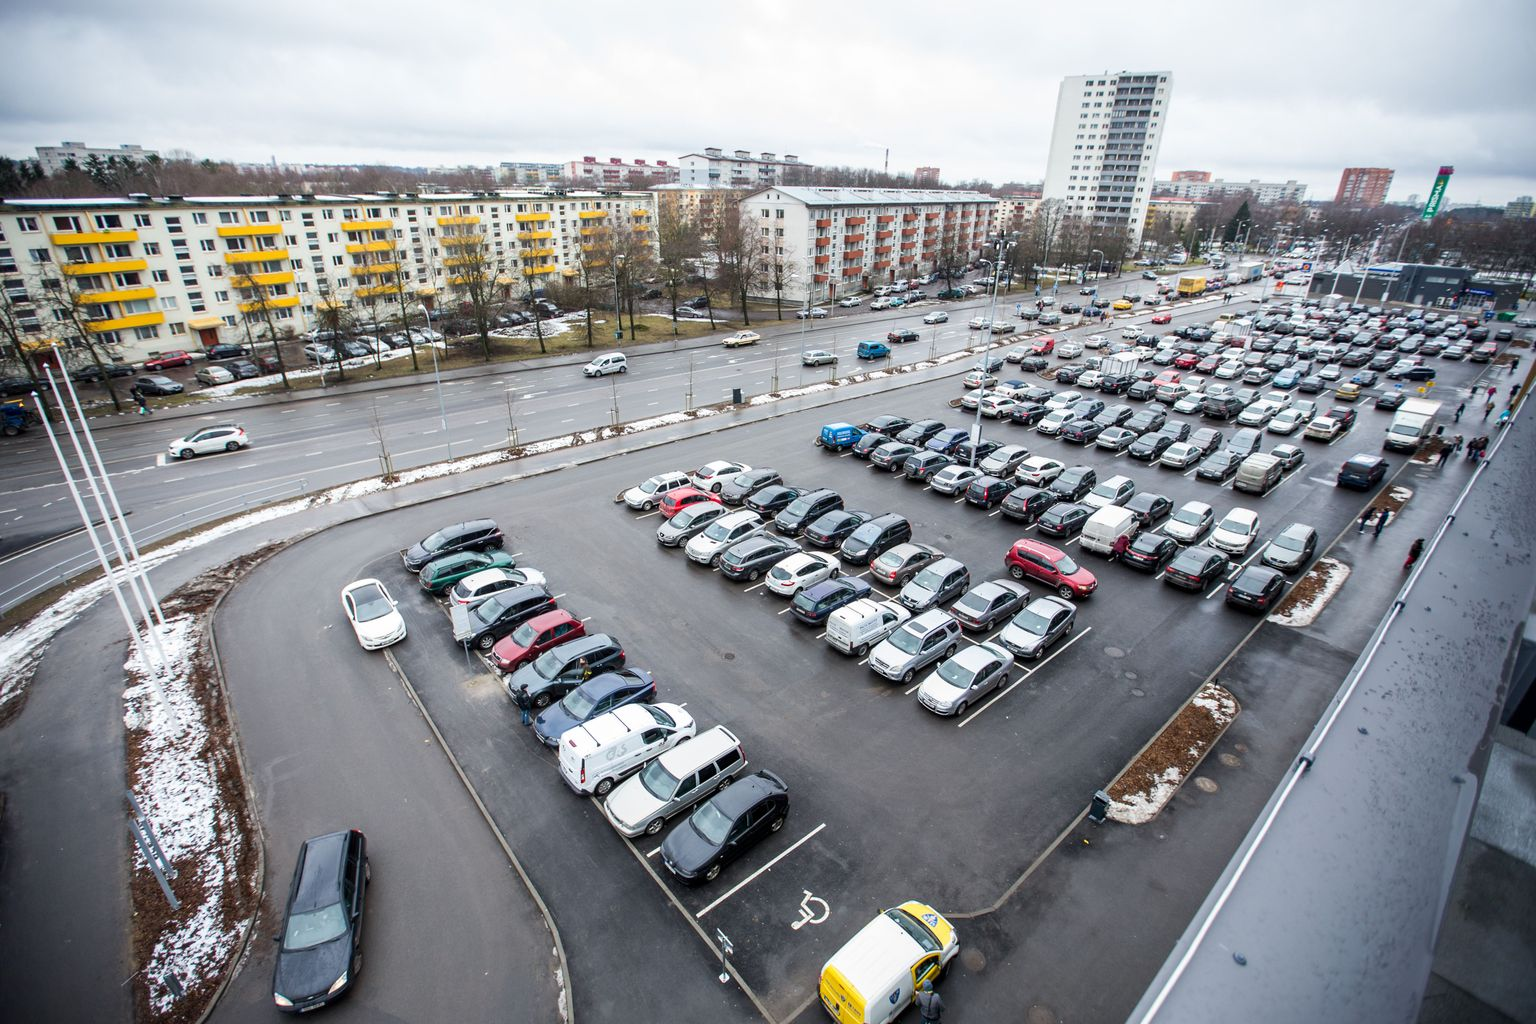Car: (269, 829, 373, 1015), (818, 901, 959, 1024), (602, 725, 751, 839), (659, 770, 790, 883), (557, 702, 696, 795), (533, 669, 656, 747), (505, 634, 625, 709), (917, 643, 1013, 717), (869, 610, 961, 683), (458, 586, 557, 650), (489, 609, 586, 672), (1005, 539, 1097, 600), (403, 519, 504, 573), (998, 594, 1078, 659), (824, 599, 911, 656), (341, 579, 408, 651), (685, 510, 767, 567), (949, 578, 1032, 632), (419, 551, 515, 594), (790, 576, 872, 626), (449, 567, 546, 609), (898, 558, 971, 613), (838, 512, 912, 566), (719, 536, 801, 581), (870, 542, 945, 589), (766, 551, 841, 598), (774, 489, 845, 537), (656, 503, 731, 547), (1385, 395, 1442, 453), (1079, 506, 1141, 559), (168, 423, 249, 461), (1163, 547, 1231, 592), (1225, 565, 1287, 613), (1261, 523, 1318, 574), (623, 471, 691, 511), (802, 510, 873, 547), (1207, 506, 1259, 557), (1161, 501, 1214, 545), (720, 469, 783, 505), (1232, 453, 1286, 495), (1000, 485, 1057, 523), (1037, 503, 1097, 539), (1123, 533, 1178, 573), (745, 486, 809, 517), (1081, 474, 1135, 511), (1337, 451, 1387, 490), (965, 474, 1018, 509), (659, 488, 721, 518), (1122, 493, 1175, 527), (693, 461, 751, 491), (929, 465, 985, 496), (870, 442, 926, 472), (1049, 465, 1096, 501), (978, 445, 1031, 475), (903, 451, 957, 481), (1123, 401, 1168, 437), (1015, 456, 1066, 486), (0, 402, 43, 437), (821, 422, 869, 453), (895, 419, 946, 447), (1195, 450, 1239, 481), (1225, 426, 1264, 461), (1129, 431, 1174, 461), (923, 427, 970, 455), (72, 363, 137, 383), (952, 439, 1005, 463), (1035, 408, 1078, 437), (582, 353, 629, 378), (864, 415, 914, 438), (1160, 440, 1201, 467), (853, 433, 897, 458), (0, 376, 50, 398), (1062, 419, 1106, 443), (1095, 426, 1138, 450), (136, 374, 184, 395), (144, 350, 192, 371), (1202, 394, 1245, 418), (1304, 415, 1341, 442), (1186, 426, 1223, 454), (1269, 408, 1304, 435), (1007, 401, 1049, 424), (1269, 443, 1304, 470), (1093, 405, 1135, 426), (1238, 401, 1273, 426), (993, 379, 1038, 399), (982, 395, 1019, 418), (1257, 391, 1293, 415), (303, 343, 342, 365), (1043, 391, 1083, 411), (1326, 405, 1357, 431), (1070, 398, 1105, 421), (195, 366, 234, 386), (1174, 392, 1210, 414), (1386, 366, 1435, 382), (960, 389, 1000, 408), (206, 343, 250, 360), (722, 329, 761, 349), (1154, 383, 1190, 403), (250, 352, 281, 374), (331, 339, 368, 358), (1101, 374, 1135, 393), (225, 360, 259, 379), (857, 339, 891, 359), (1289, 399, 1317, 423), (963, 370, 999, 389), (354, 336, 390, 354), (801, 350, 839, 367), (302, 328, 344, 343), (1159, 421, 1191, 440), (1271, 368, 1299, 390), (1195, 353, 1224, 375), (1242, 366, 1272, 386), (1019, 387, 1055, 405), (440, 319, 478, 335), (1238, 261, 1264, 283), (1215, 360, 1246, 379), (1127, 381, 1158, 400), (1375, 391, 1405, 410), (1177, 278, 1207, 297), (408, 326, 442, 342), (350, 320, 386, 335), (1234, 387, 1262, 407), (973, 355, 1003, 373), (1056, 366, 1085, 384), (1151, 370, 1179, 389), (1315, 347, 1347, 363), (1006, 345, 1033, 363), (1265, 352, 1293, 370), (887, 329, 920, 344), (1152, 349, 1181, 366), (1197, 342, 1225, 359), (1350, 369, 1378, 386), (1298, 375, 1325, 393), (1203, 383, 1233, 399), (381, 333, 410, 349), (394, 329, 426, 344), (1021, 355, 1048, 373), (1174, 353, 1201, 370), (1078, 370, 1105, 387), (1341, 351, 1369, 367), (1031, 336, 1054, 355), (535, 303, 565, 318), (1336, 383, 1360, 401), (1129, 368, 1158, 383), (1057, 344, 1083, 360), (795, 306, 829, 319), (1318, 363, 1342, 381), (1182, 376, 1207, 392), (1368, 355, 1394, 370), (1271, 338, 1297, 353), (1157, 336, 1182, 351), (1133, 345, 1155, 361), (922, 311, 949, 325), (429, 309, 457, 321), (1255, 317, 1279, 331), (529, 297, 557, 310), (1223, 346, 1246, 361), (1245, 351, 1267, 366), (1290, 360, 1313, 375), (1210, 251, 1230, 269), (1210, 331, 1234, 345), (1469, 326, 1489, 342), (968, 317, 992, 330), (1089, 262, 1118, 273), (1086, 335, 1107, 350), (1352, 331, 1374, 346), (522, 288, 544, 303), (870, 296, 891, 311), (1135, 335, 1160, 347), (1471, 349, 1490, 365), (1389, 327, 1409, 342), (1445, 345, 1465, 360), (683, 296, 707, 309), (1251, 338, 1275, 351), (991, 321, 1015, 334), (1191, 328, 1213, 342), (1061, 302, 1083, 314), (1081, 357, 1102, 370), (1376, 335, 1397, 349), (675, 306, 703, 317), (839, 296, 863, 307), (1122, 326, 1144, 338), (1294, 346, 1315, 359), (1333, 329, 1354, 342), (515, 310, 537, 322), (1152, 311, 1171, 325), (1399, 338, 1418, 352), (504, 312, 523, 326), (889, 279, 909, 293), (639, 289, 662, 301), (1039, 313, 1062, 325), (1109, 344, 1134, 354), (1174, 326, 1194, 338), (1421, 342, 1441, 354), (1358, 346, 1376, 360), (1456, 338, 1474, 352), (937, 288, 965, 297), (1379, 351, 1401, 362), (1403, 321, 1423, 334), (1177, 343, 1200, 353), (1480, 342, 1497, 355), (1367, 327, 1385, 339), (1275, 321, 1294, 334), (1393, 359, 1415, 369), (1021, 310, 1042, 320), (1311, 341, 1330, 352), (1293, 325, 1312, 336), (1443, 327, 1463, 338), (1433, 336, 1449, 350), (1211, 320, 1227, 334), (495, 315, 512, 328), (1515, 318, 1536, 328), (1323, 321, 1342, 333), (1495, 329, 1513, 341), (467, 319, 490, 328), (903, 291, 921, 303), (873, 286, 891, 297), (1113, 299, 1133, 310), (1407, 354, 1424, 366), (1407, 309, 1424, 320), (1311, 328, 1329, 338), (1345, 315, 1363, 326), (1035, 296, 1056, 305), (1094, 297, 1112, 307), (1410, 334, 1426, 345), (1290, 314, 1306, 326), (1443, 314, 1459, 326), (1351, 304, 1370, 313), (1143, 295, 1162, 304), (1295, 336, 1312, 346), (1463, 317, 1480, 327), (1432, 321, 1449, 331), (1424, 312, 1441, 322), (1285, 277, 1306, 285), (1307, 319, 1321, 331), (1290, 303, 1304, 315), (1227, 273, 1242, 285), (1216, 313, 1234, 322), (646, 274, 664, 283), (1082, 307, 1101, 317), (1123, 293, 1142, 302), (1158, 285, 1174, 295), (1424, 325, 1440, 335), (974, 277, 994, 285), (1357, 312, 1370, 323), (1335, 303, 1352, 312), (632, 285, 649, 294), (665, 279, 685, 287), (1392, 317, 1407, 327), (890, 296, 905, 306), (1337, 343, 1353, 352), (1191, 322, 1209, 330), (1259, 305, 1278, 313), (1367, 318, 1383, 327), (1310, 312, 1326, 321), (1134, 258, 1152, 266), (960, 285, 976, 294), (1079, 286, 1095, 295), (1455, 323, 1467, 335), (1289, 298, 1310, 305), (918, 274, 931, 285), (1290, 248, 1304, 258), (1389, 309, 1403, 318), (1277, 305, 1291, 314), (912, 290, 927, 299), (1347, 325, 1359, 336), (1251, 295, 1267, 303), (1321, 309, 1337, 317), (1305, 299, 1321, 307), (1297, 273, 1311, 282), (1370, 307, 1384, 317), (687, 275, 705, 282), (1143, 271, 1158, 279), (1387, 322, 1402, 330), (1327, 314, 1342, 322), (1275, 313, 1287, 323), (909, 279, 919, 290), (1232, 337, 1245, 346), (1414, 318, 1426, 327), (953, 271, 966, 280), (1237, 310, 1253, 317), (685, 265, 698, 273), (1166, 293, 1182, 299), (1376, 315, 1387, 325), (1157, 278, 1169, 286), (1339, 311, 1352, 319), (1215, 274, 1227, 281), (1213, 281, 1223, 289), (959, 287, 969, 295), (1274, 271, 1283, 279), (930, 273, 938, 282), (966, 264, 975, 272), (1243, 315, 1256, 321), (1153, 259, 1166, 265), (1221, 280, 1231, 287), (1207, 283, 1215, 291), (974, 262, 982, 270), (960, 266, 968, 273), (1267, 270, 1275, 275), (1302, 254, 1310, 259), (1207, 279, 1216, 283), (1263, 271, 1269, 278), (1297, 264, 1303, 270), (1286, 251, 1291, 257), (1293, 264, 1297, 271), (1310, 247, 1317, 251), (1281, 254, 1286, 257)
